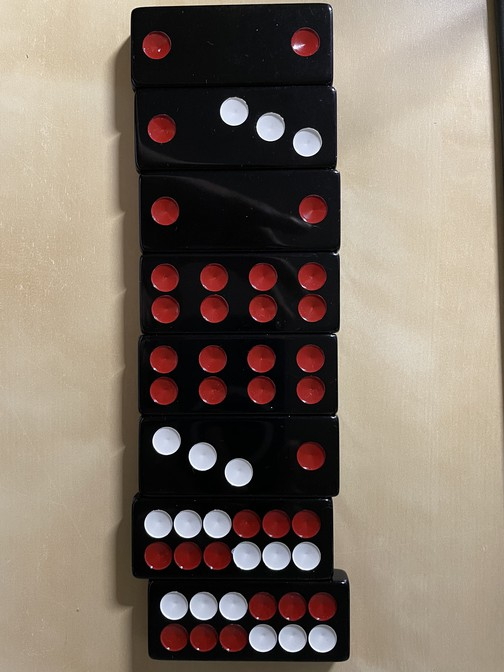earth: (132, 4, 337, 86), (140, 171, 341, 253)
goose: (139, 416, 340, 498), (133, 88, 336, 169)
heaven: (146, 580, 351, 662), (134, 501, 336, 579)
man: (138, 255, 338, 334), (140, 335, 339, 414)
